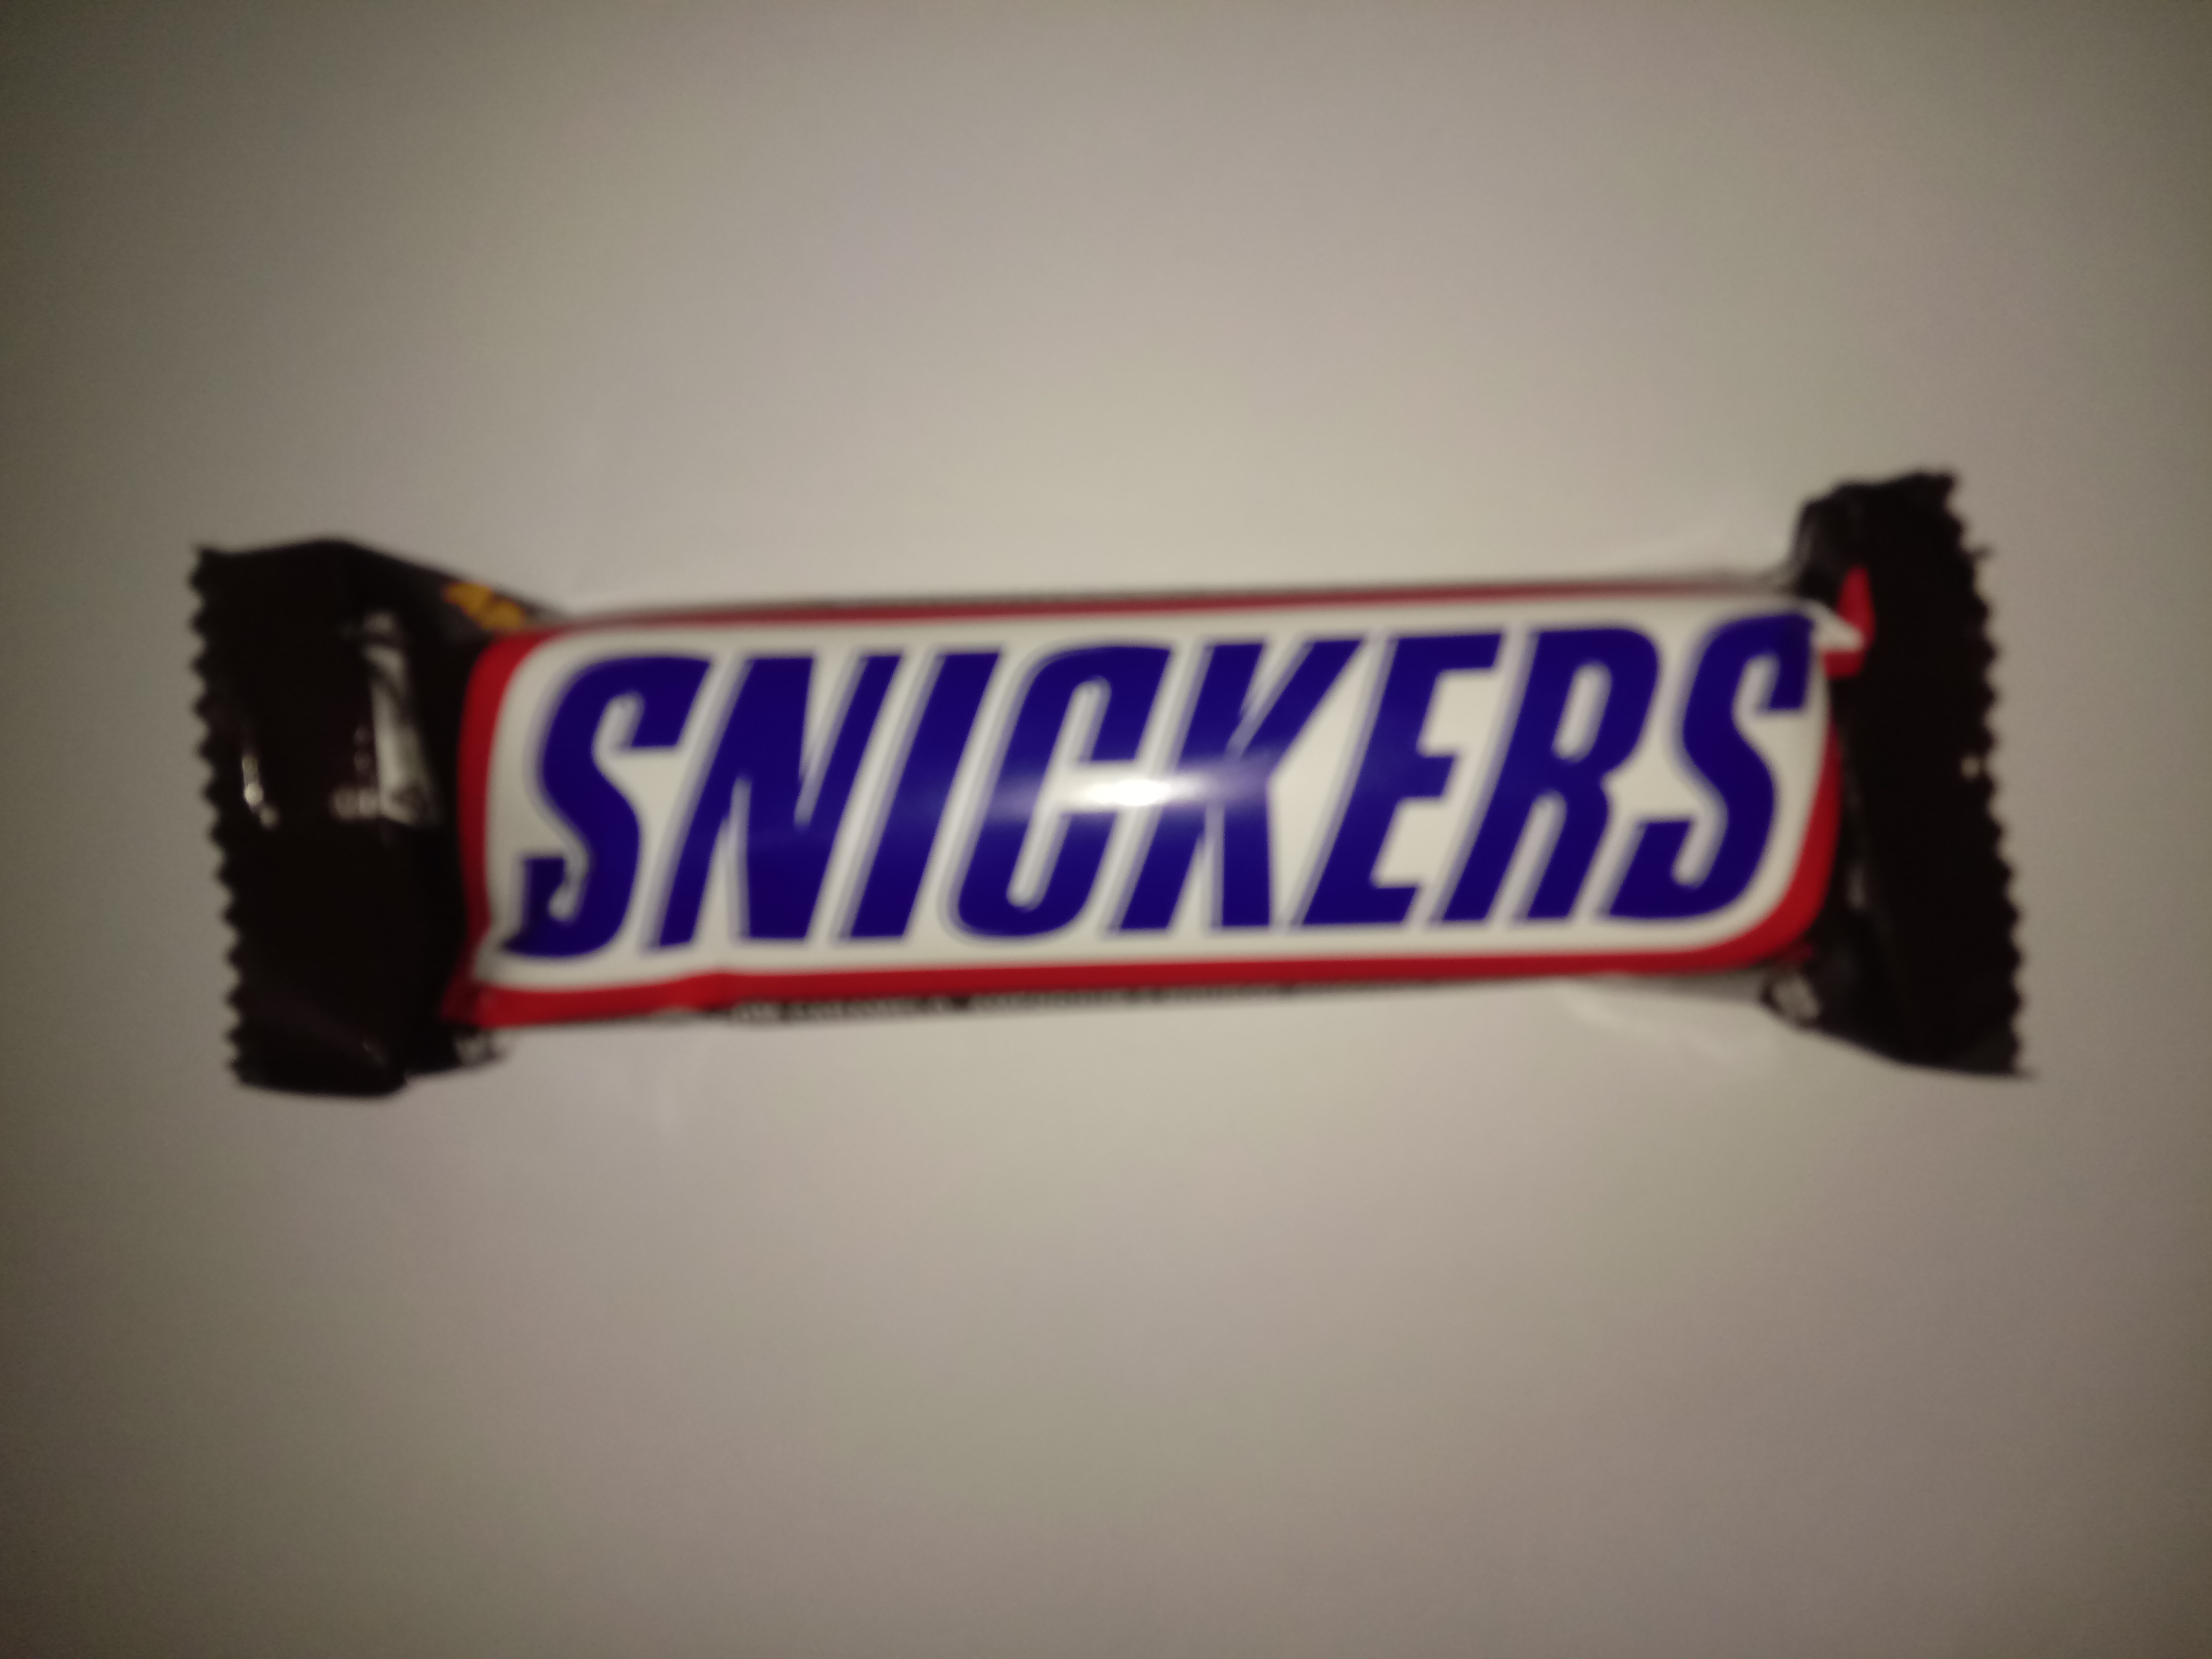snickers: (143, 453, 2080, 1117)
